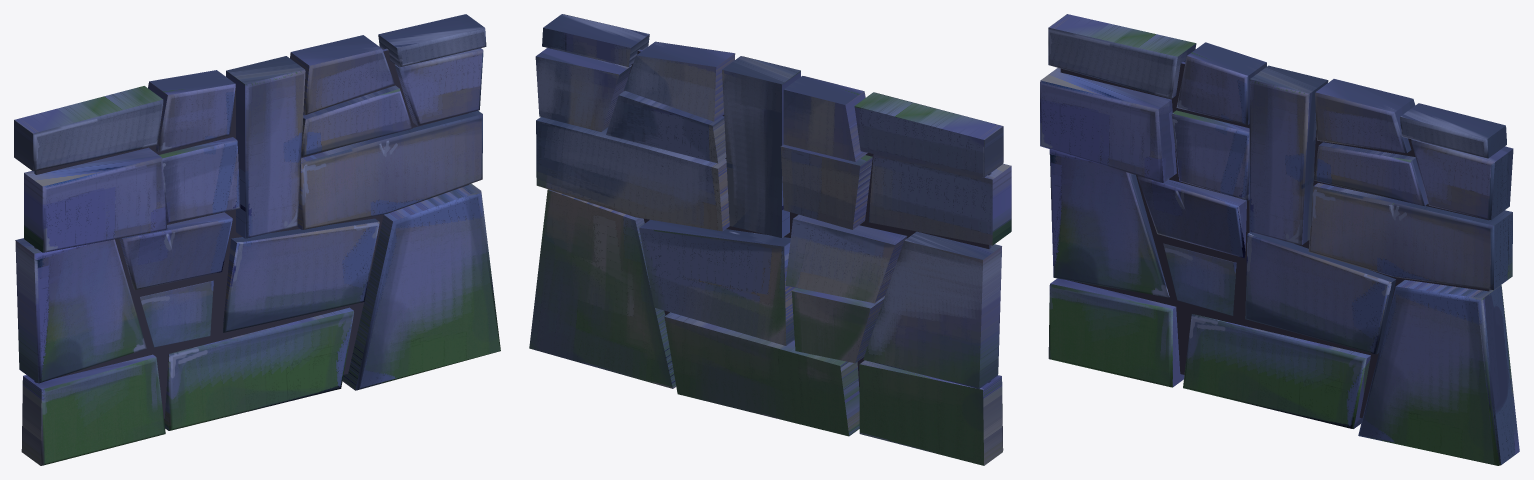
The model's file is stone_wall 1.fbx.
The picture shows the model from 3 angles, left to right: view 1: azimuth 30°, elevation 25°; view 2: azimuth 150°, elevation 25°; view 3: azimuth 330°, elevation 25°; orthographic projection.
Visible parts, largest first — view 1: Cube; view 2: Cube; view 3: Cube.
Boxes of the visible parts, <box> form: Cube: <box>14,14,500,465</box>; Cube: <box>529,14,1011,465</box>; Cube: <box>1040,14,1519,465</box>.
Bounding box in the file's own units: 544 × 377 × 71.56.
